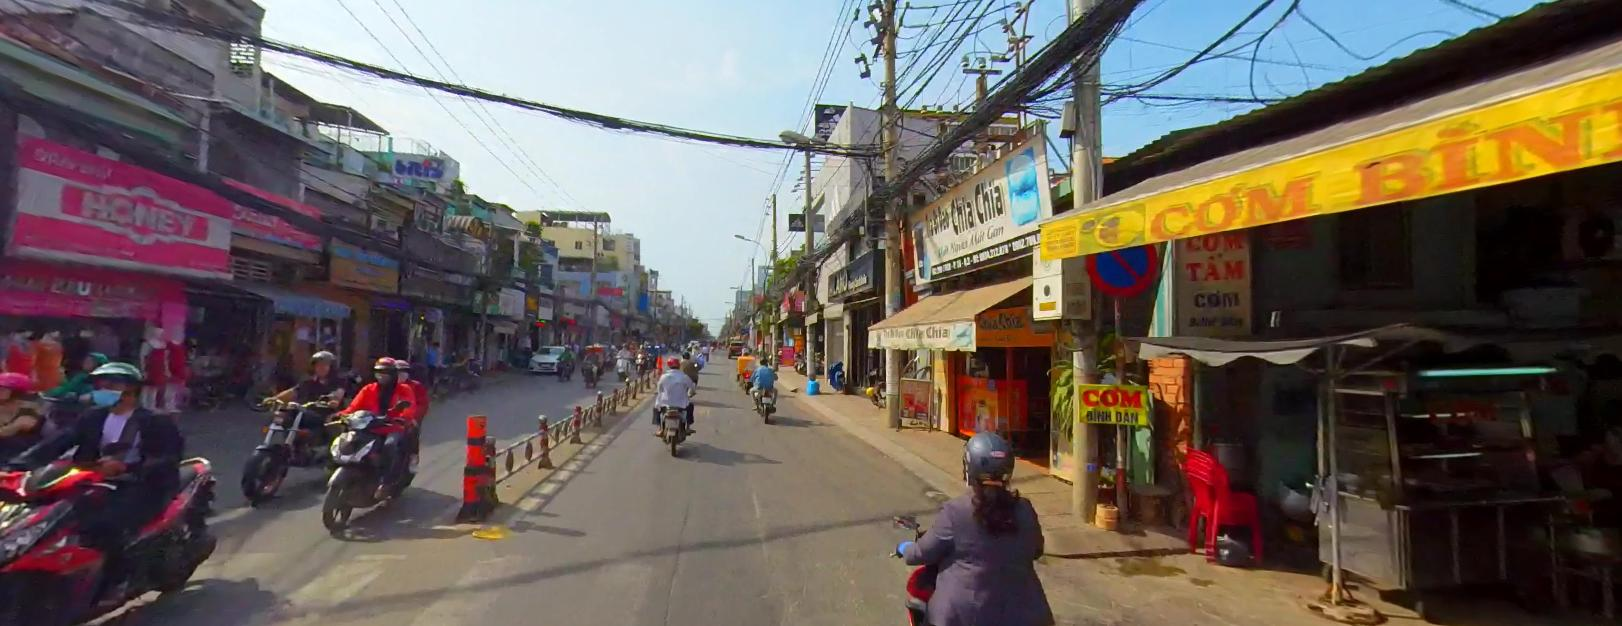Cam dung va do: (1080, 221, 1160, 299)
